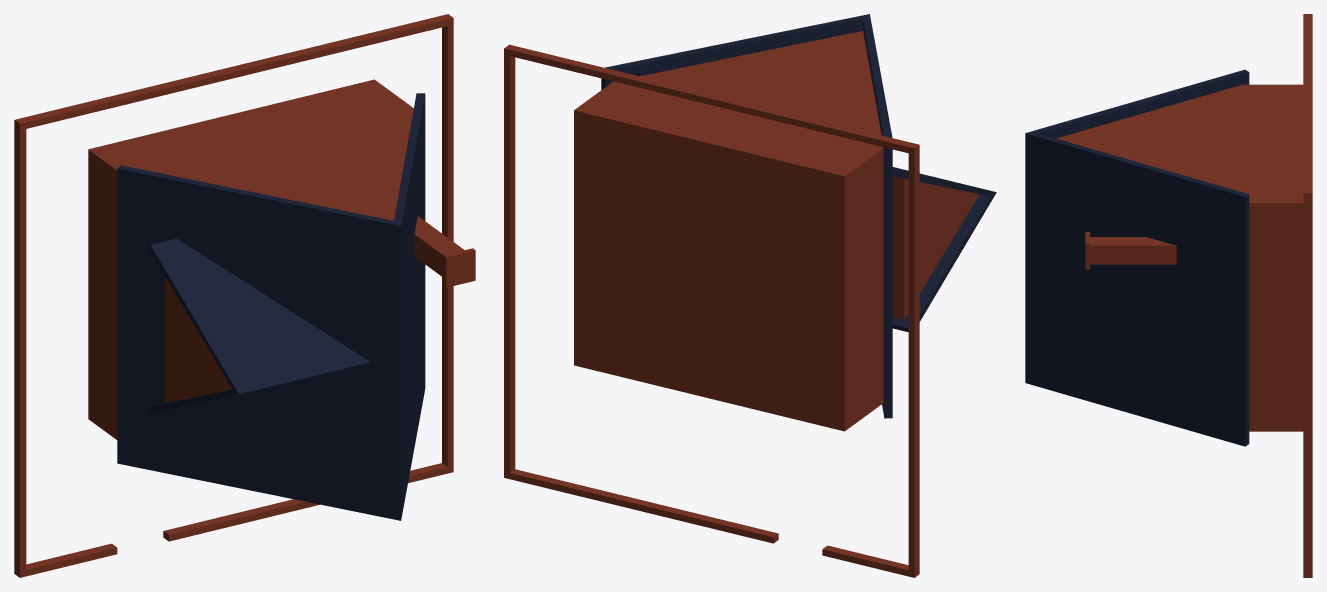
Rendered from Simple_House_01.fbx.
3 views of the same model, side by side, from view 1: azimuth 30°, elevation 25°; view 2: azimuth 150°, elevation 25°; view 3: azimuth 270°, elevation 25° (orthographic). The views are drawn at different scales.
Visible parts, largest first — view 1: Simple_House_01; view 2: Simple_House_01; view 3: Simple_House_01.
Part boxes in pixels (x1=…): Simple_House_01: x1=14, y1=14, x2=475, y2=577; Simple_House_01: x1=504, y1=14, x2=996, y2=577; Simple_House_01: x1=1025, y1=14, x2=1312, y2=577.
Size of the model in its own units: 182 by 182 by 123.
